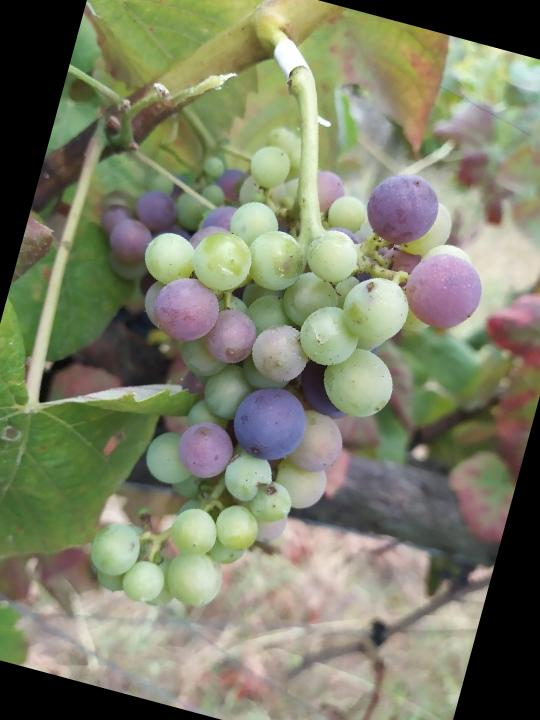grape: (53, 110, 511, 672)
